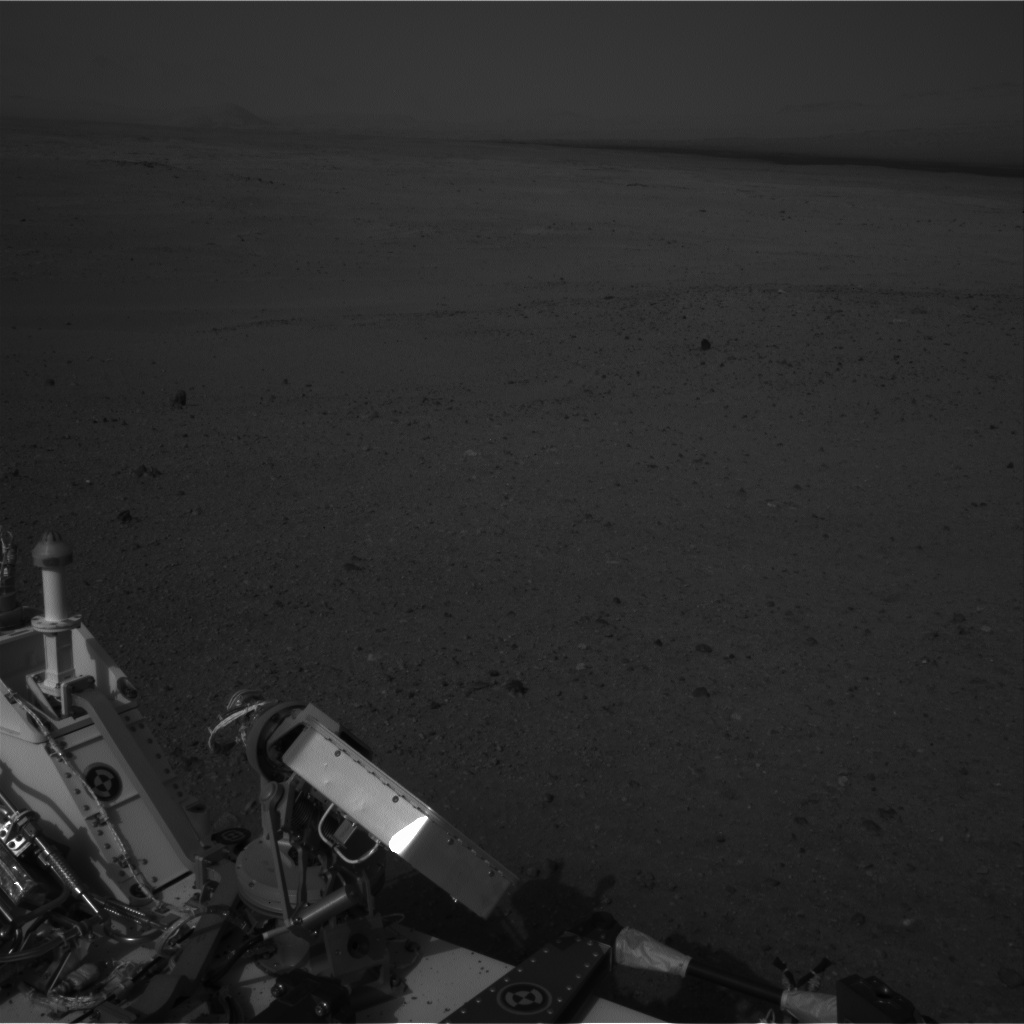soil: (5, 314, 1019, 972)
